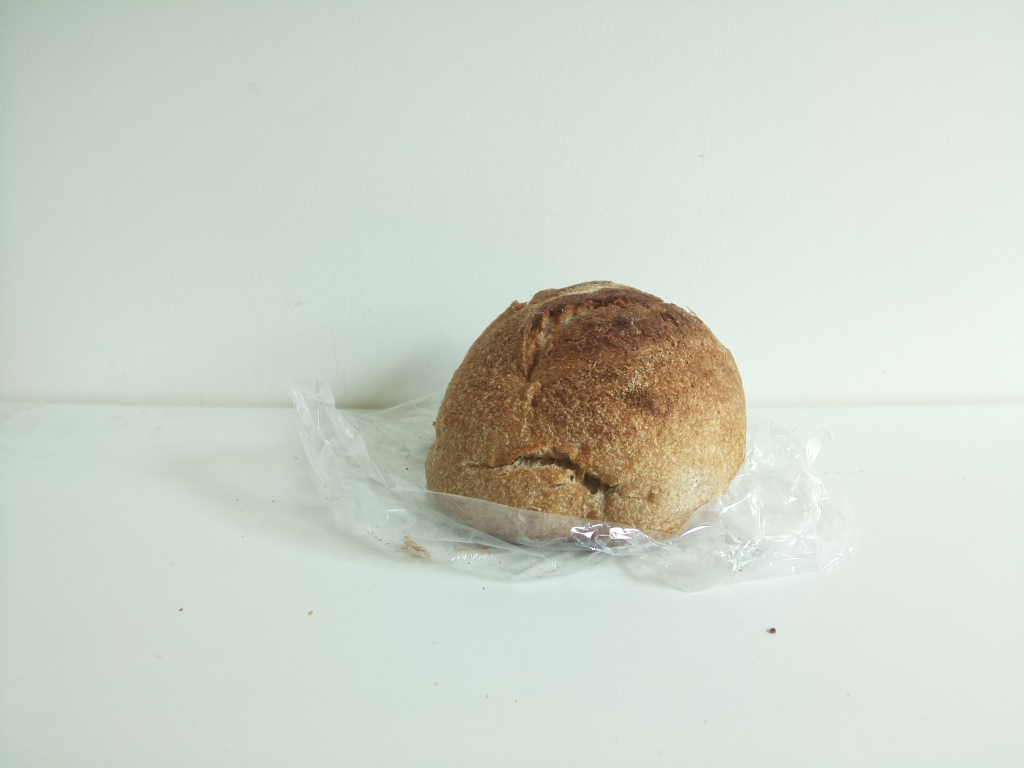bread: (424, 275, 752, 559)
